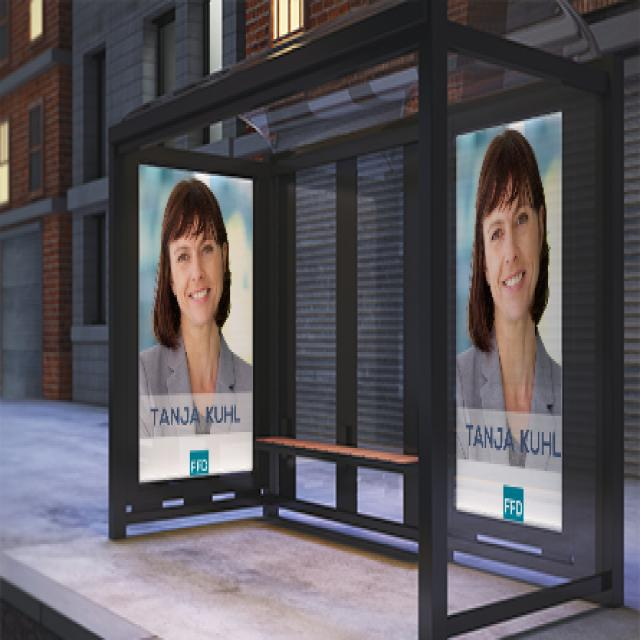Werbetafel frei: (454, 117, 562, 533), (140, 167, 252, 482)
